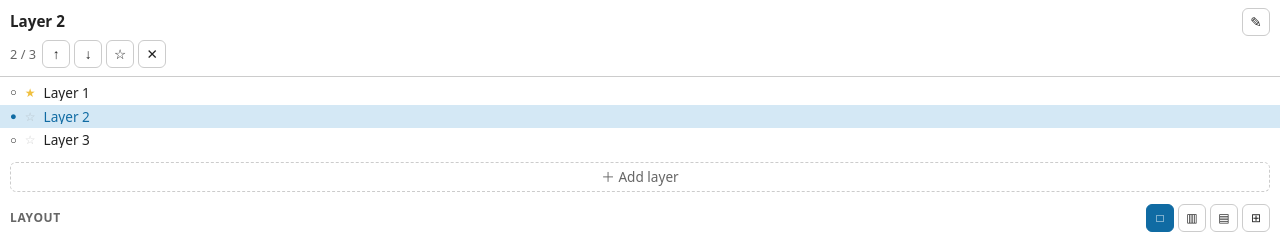
Test: clicking rename shows input with current layer name
Step 1. Click the button named "rename layer" → (1256, 22), box [1242,8,1270,36]
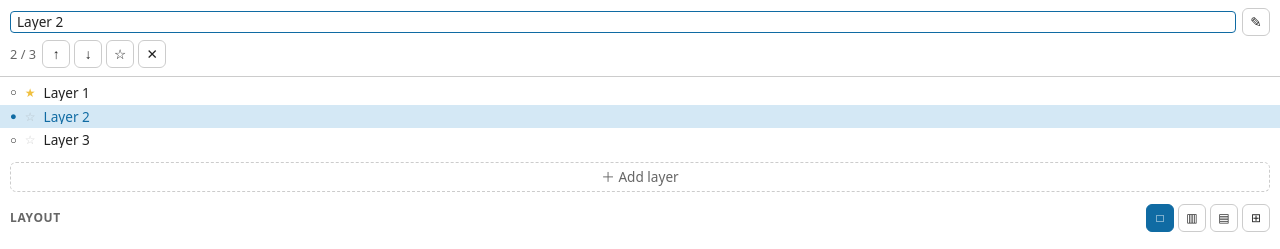
Result: the field showing "Layer 2" is shown at [10,11,1236,33]
